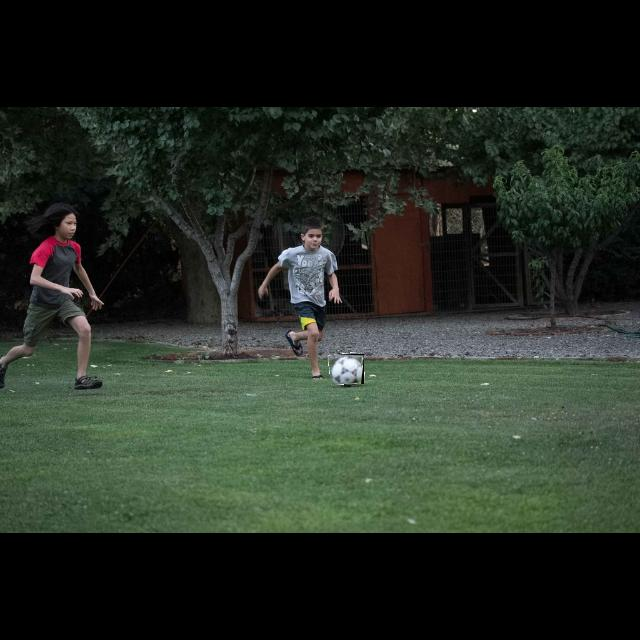Football: (330, 354, 364, 384)
